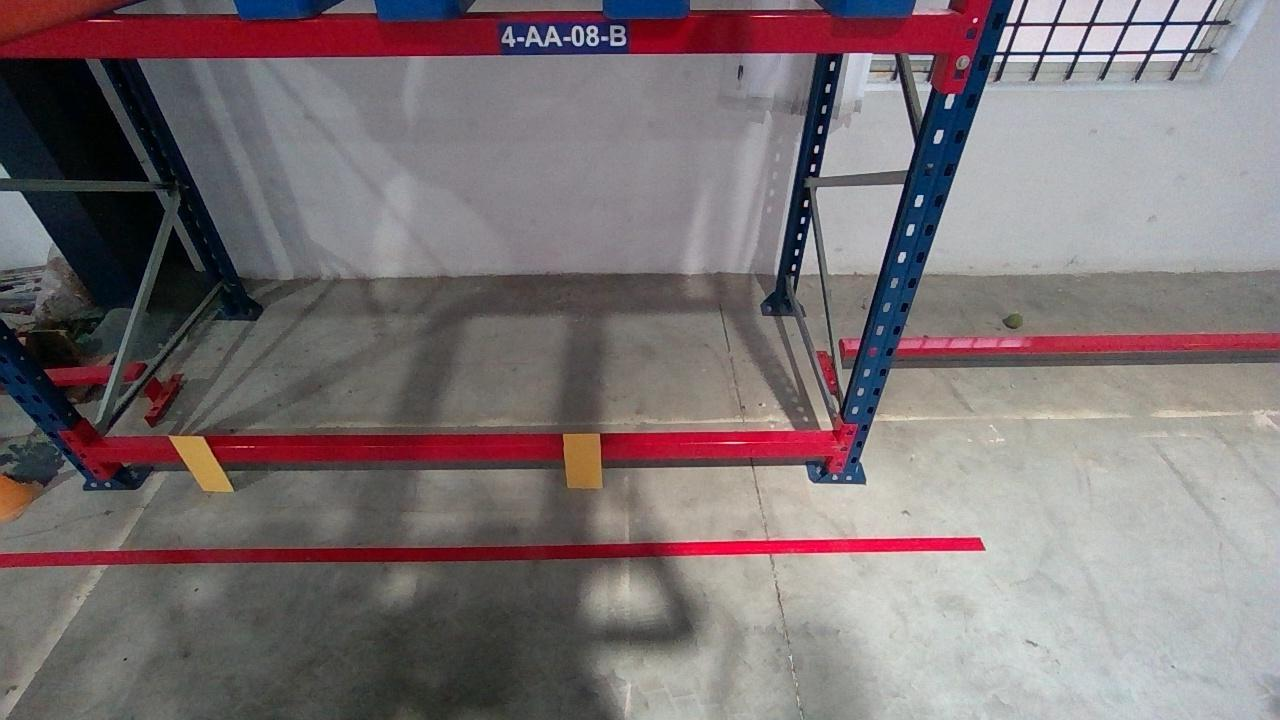h_rack: (4, 13, 955, 58), (86, 440, 839, 464)
orange_strip: (165, 436, 236, 490), (561, 434, 602, 488)
red_line: (2, 536, 984, 563)
small_pallet: (357, 0, 924, 18)
